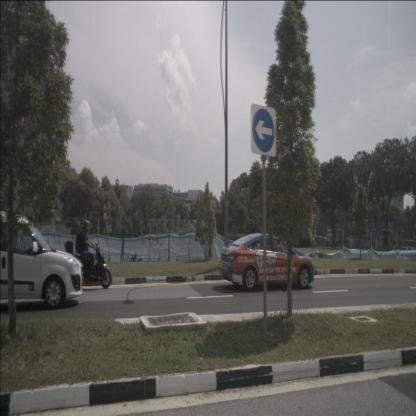vehicle-bus-rigid: (393, 238, 414, 251)
vehicle-car: (0, 210, 84, 310), (218, 232, 314, 291)
vehicle-motorcycle: (64, 219, 112, 289)
